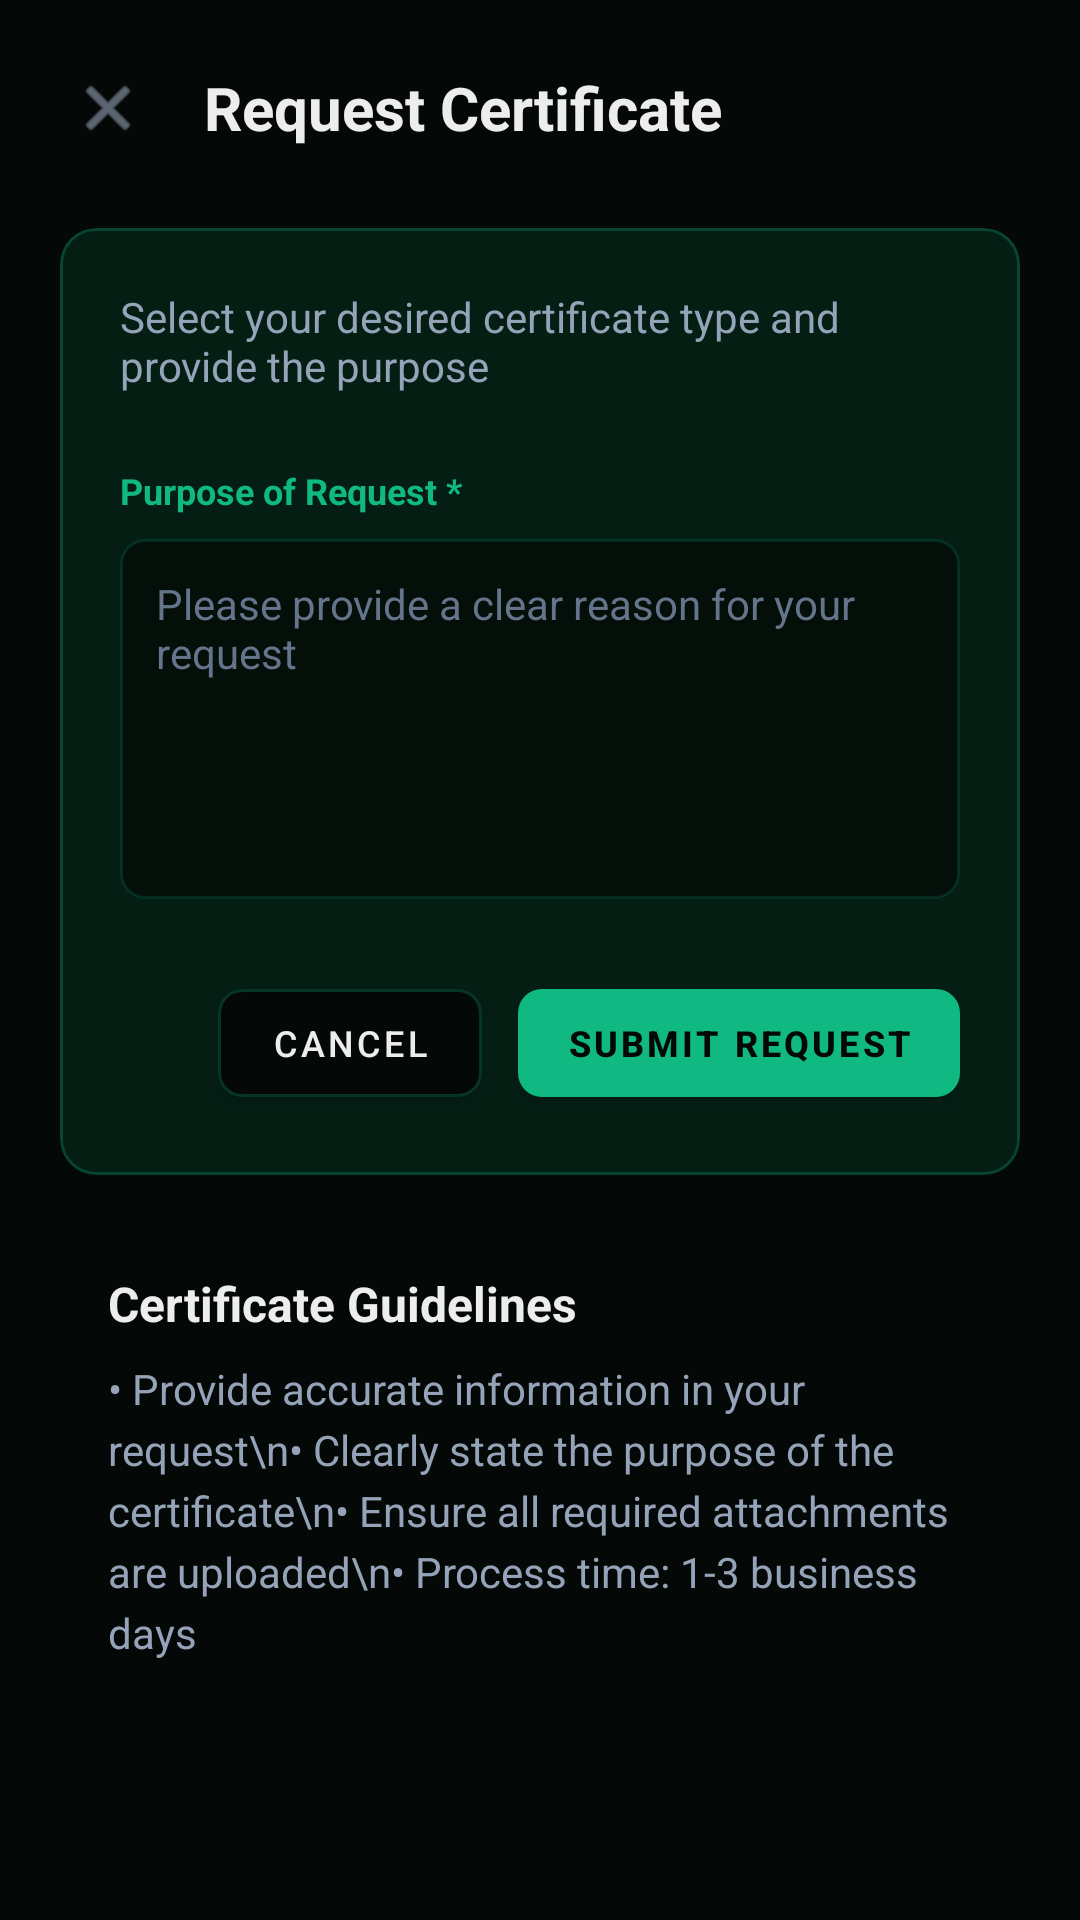

Named icons in this screenshot (1080*1920) and their centers, point (x, y):
close clear cancel: point (108, 108)
